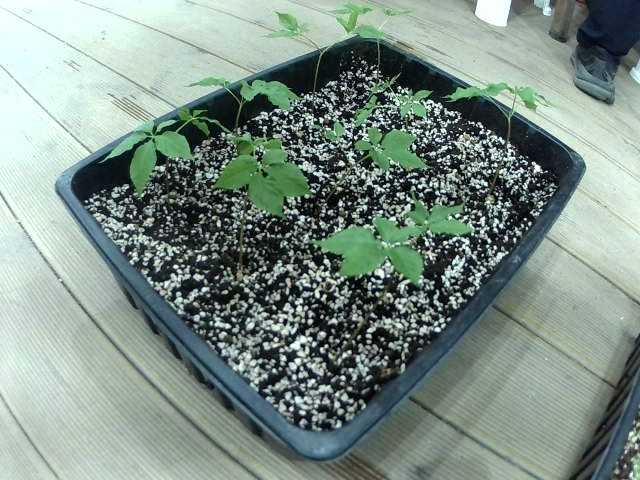수확기: (323, 204, 431, 295), (327, 126, 428, 191), (220, 155, 308, 226), (390, 183, 467, 245), (120, 117, 194, 180), (499, 74, 565, 135), (444, 67, 508, 115), (156, 89, 207, 148), (254, 67, 311, 119), (380, 81, 437, 131), (193, 55, 232, 106), (232, 129, 289, 163), (255, 15, 310, 47), (337, 24, 388, 56), (368, 3, 411, 39), (331, 3, 370, 36), (369, 75, 401, 103), (321, 124, 352, 151)
